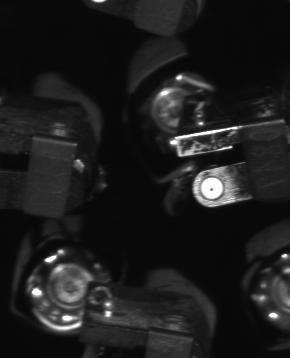fiber: (196, 175, 230, 203)
